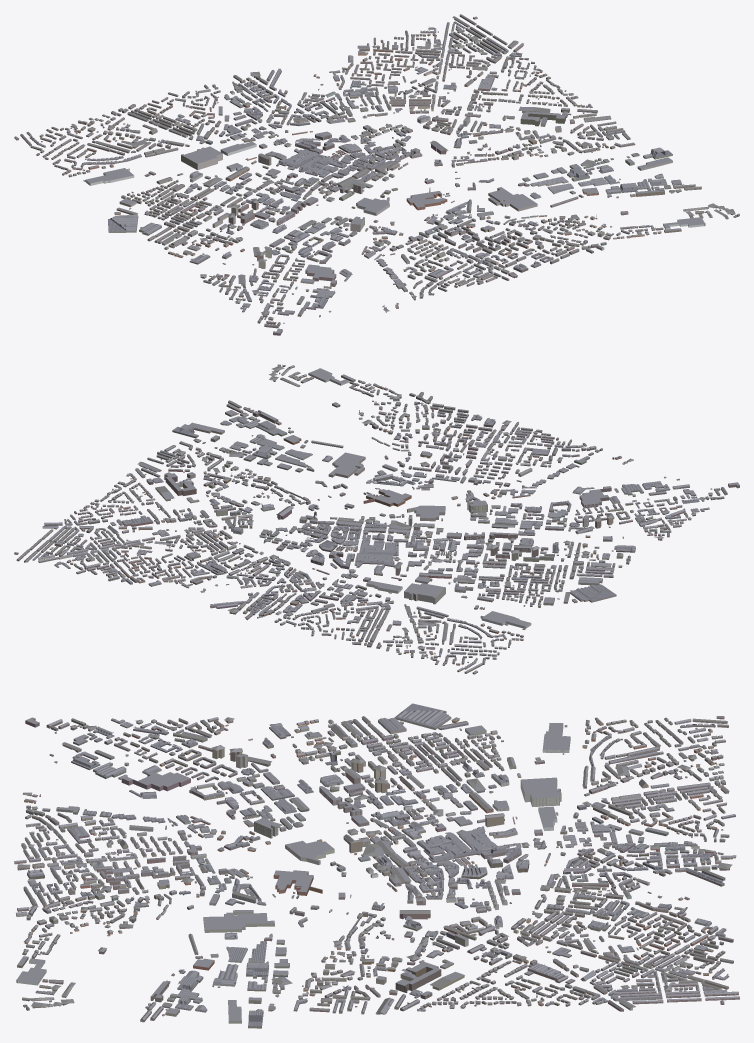
The model's file is buildings.glb.
The picture shows the model from 3 angles, top to bottom: view 1: azimuth 30°, elevation 25°; view 2: azimuth 150°, elevation 25°; view 3: azimuth 270°, elevation 25°; orthographic projection. The views are drawn at different scales.
Visible parts, largest first — view 1: buildings_53, buildings_33, buildings_34, buildings_52, buildings_67, buildings_48, buildings_90, buildings_89, buildings_110, buildings_63, buildings_282, buildings_85 (+5 smaller); view 2: buildings_53, buildings_30, buildings_33, buildings_34, buildings_48, buildings_52, buildings_21, buildings_282, buildings_67, buildings_32, buildings_56, buildings_25 (+8 smaller); view 3: buildings_53, buildings_33, buildings_34, buildings_52, buildings_67, buildings_89, buildings_90, buildings_48, buildings_282, buildings_110, buildings_85, buildings_25 (+11 smaller).
Part boxes in pixels (x1=…): buildings_53: x1=14, y1=14, x2=737, y2=333; buildings_33: x1=15, y1=14, x2=739, y2=326; buildings_34: x1=30, y1=22, x2=736, y2=318; buildings_52: x1=30, y1=29, x2=734, y2=318; buildings_67: x1=61, y1=35, x2=737, y2=328; buildings_48: x1=30, y1=18, x2=737, y2=299; buildings_90: x1=38, y1=18, x2=734, y2=327; buildings_89: x1=30, y1=17, x2=739, y2=325; buildings_110: x1=41, y1=44, x2=717, y2=323; buildings_63: x1=30, y1=43, x2=722, y2=283; buildings_282: x1=40, y1=17, x2=701, y2=327; buildings_85: x1=16, y1=29, x2=695, y2=307; buildings_53: x1=14, y1=364, x2=739, y2=673; buildings_30: x1=14, y1=370, x2=739, y2=674; buildings_33: x1=18, y1=365, x2=727, y2=672; buildings_34: x1=32, y1=365, x2=709, y2=668; buildings_48: x1=16, y1=365, x2=736, y2=669; buildings_52: x1=29, y1=366, x2=715, y2=670; buildings_21: x1=89, y1=365, x2=712, y2=660; buildings_282: x1=19, y1=377, x2=717, y2=673; buildings_67: x1=39, y1=383, x2=702, y2=656; buildings_32: x1=53, y1=366, x2=649, y2=673; buildings_56: x1=44, y1=386, x2=729, y2=642; buildings_25: x1=18, y1=376, x2=728, y2=668; buildings_53: x1=14, y1=704, x2=739, y2=1026; buildings_33: x1=18, y1=716, x2=735, y2=1027; buildings_34: x1=23, y1=703, x2=735, y2=1026; buildings_52: x1=17, y1=717, x2=735, y2=1007; buildings_67: x1=18, y1=718, x2=728, y2=1009; buildings_89: x1=17, y1=719, x2=733, y2=1020; buildings_90: x1=17, y1=724, x2=732, y2=1022; buildings_48: x1=27, y1=718, x2=733, y2=1021; buildings_282: x1=16, y1=719, x2=738, y2=1021; buildings_110: x1=15, y1=718, x2=739, y2=1005; buildings_85: x1=32, y1=717, x2=738, y2=1020; buildings_25: x1=17, y1=721, x2=737, y2=1021.
Bounding box in the file's own units: 2215 × 73.95 × 2100.
